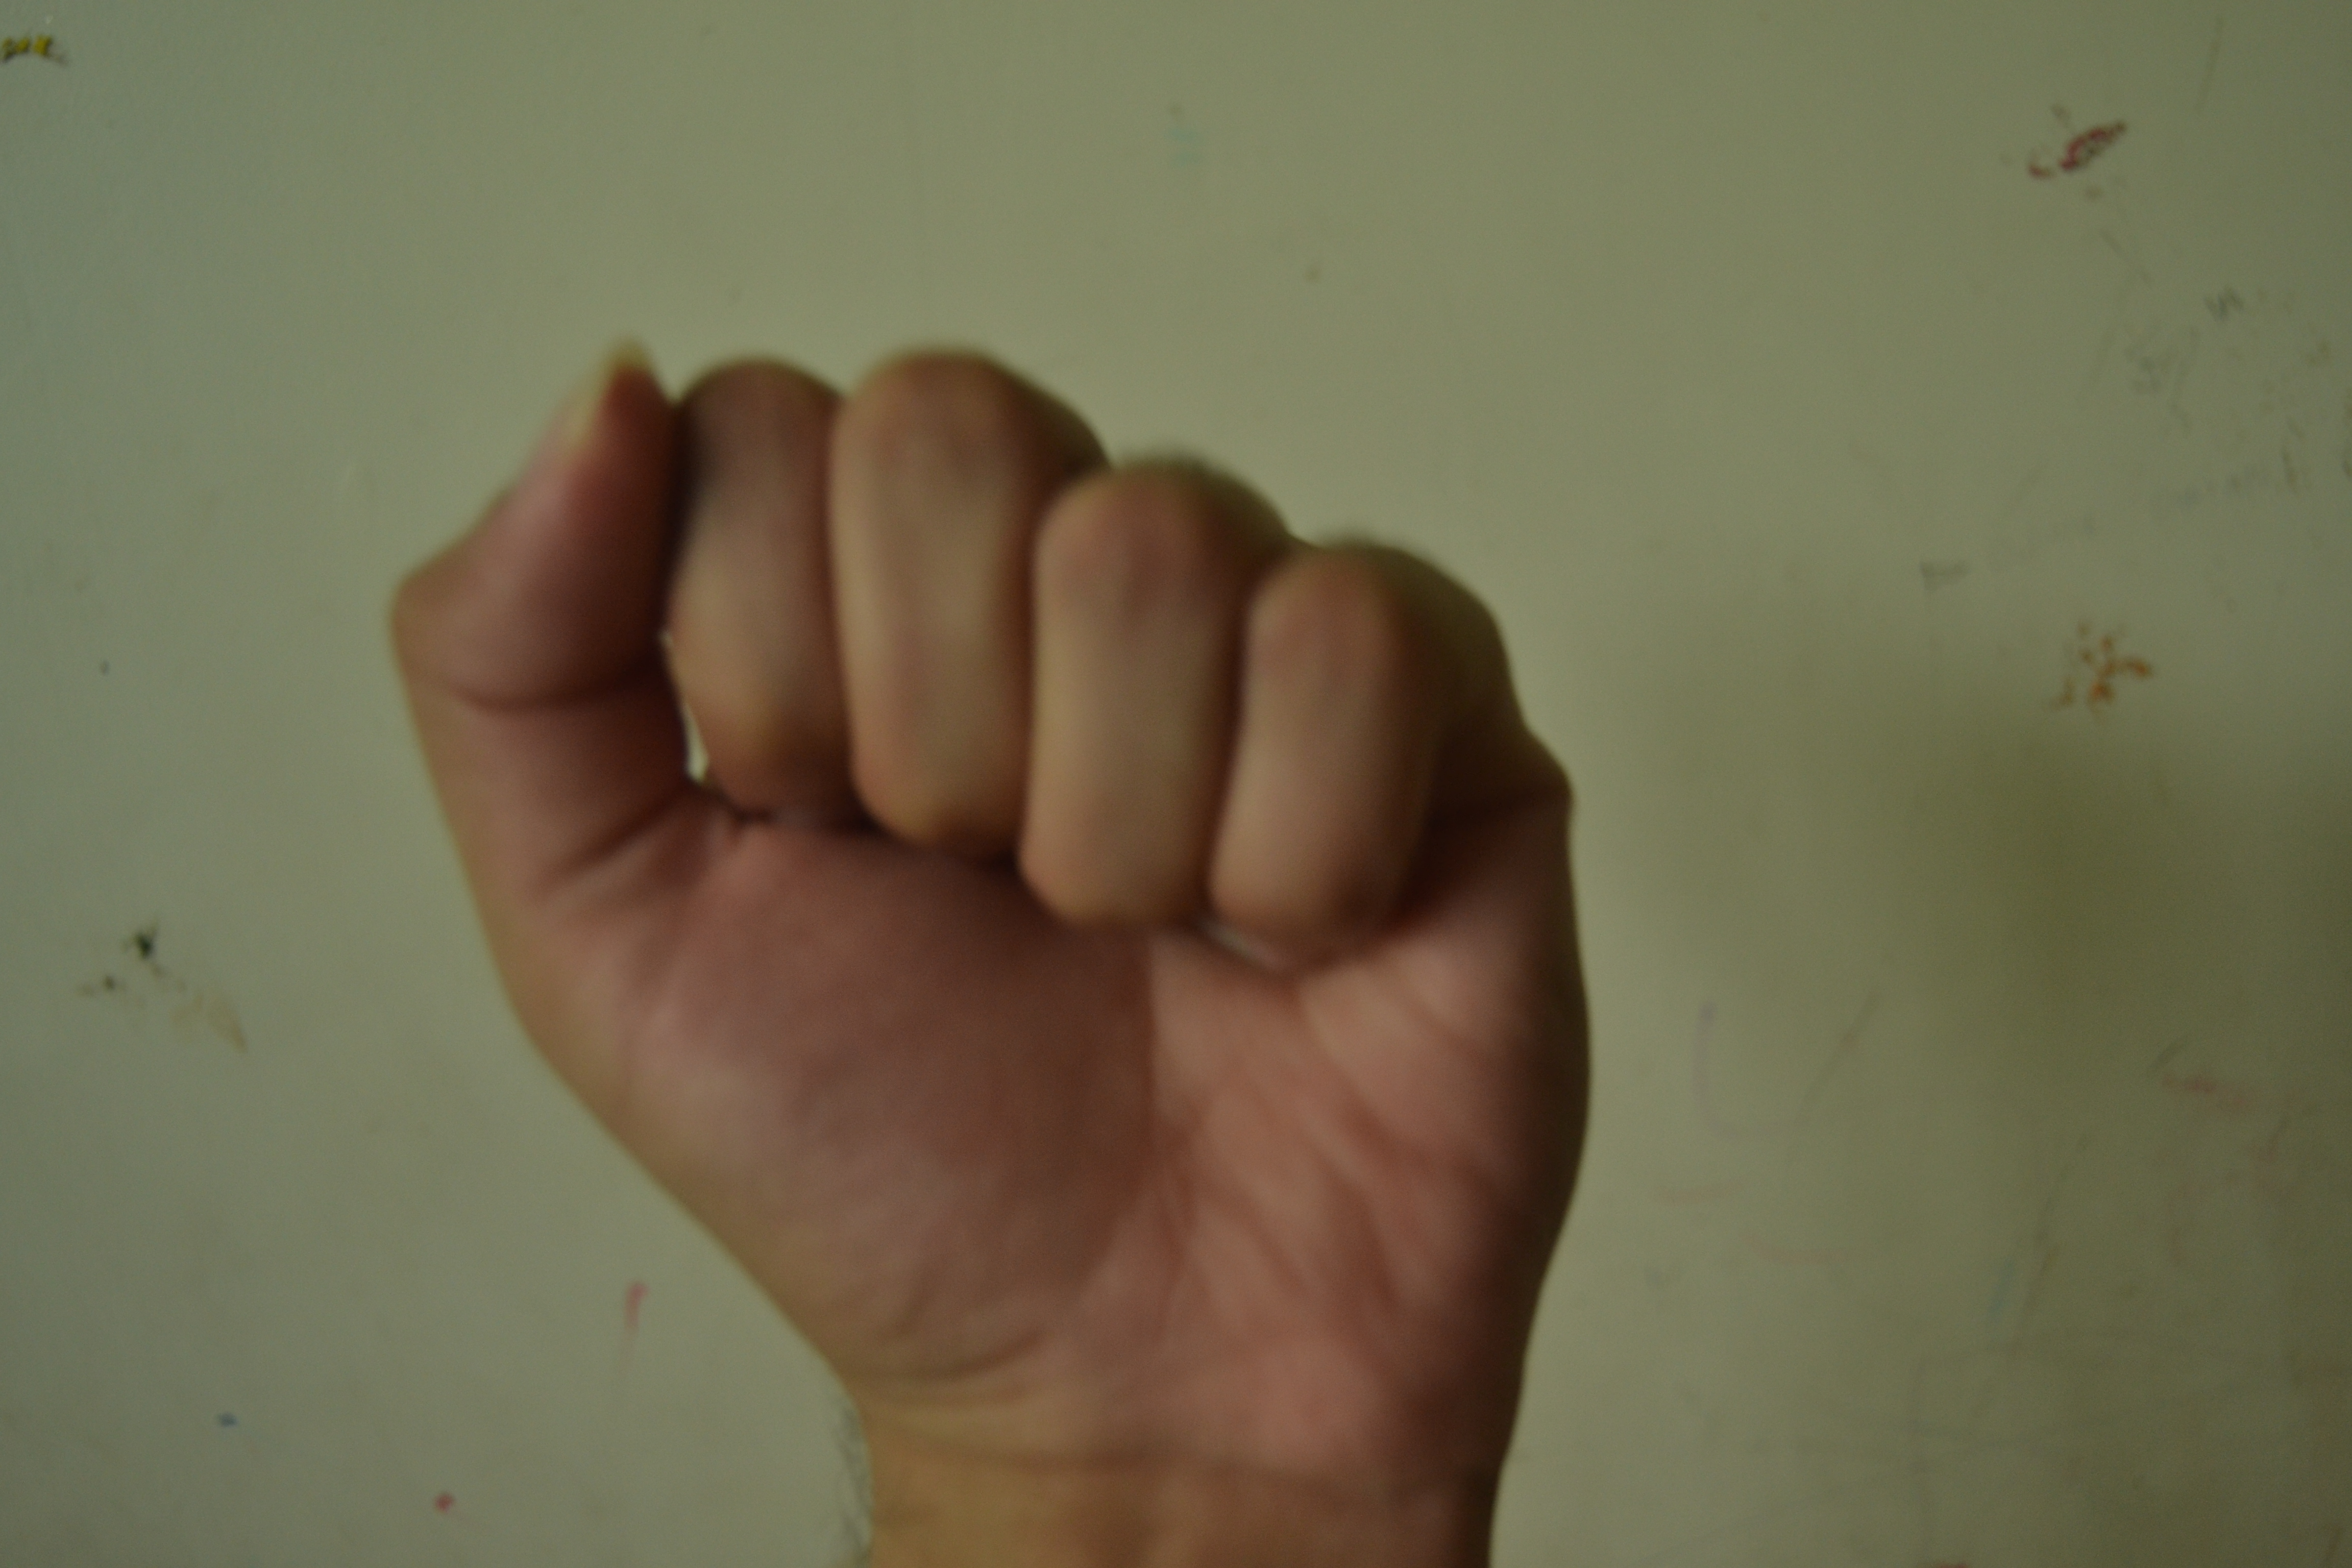click: (357, 318, 1690, 1463)
